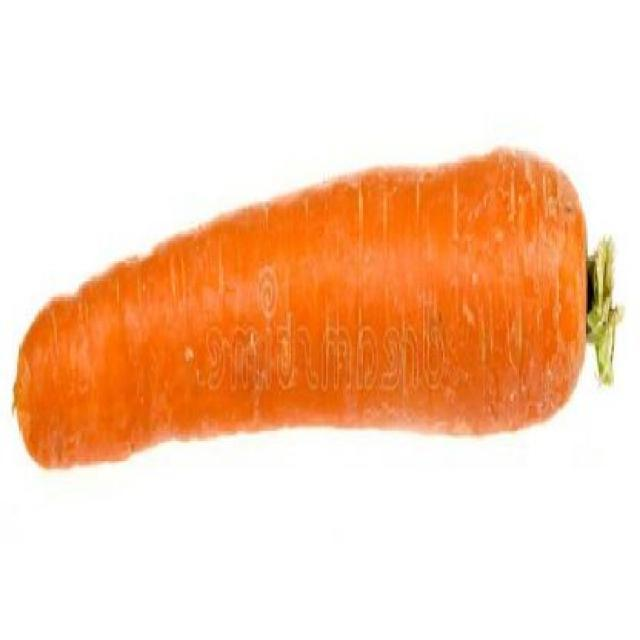carrot: (15, 143, 615, 479)
